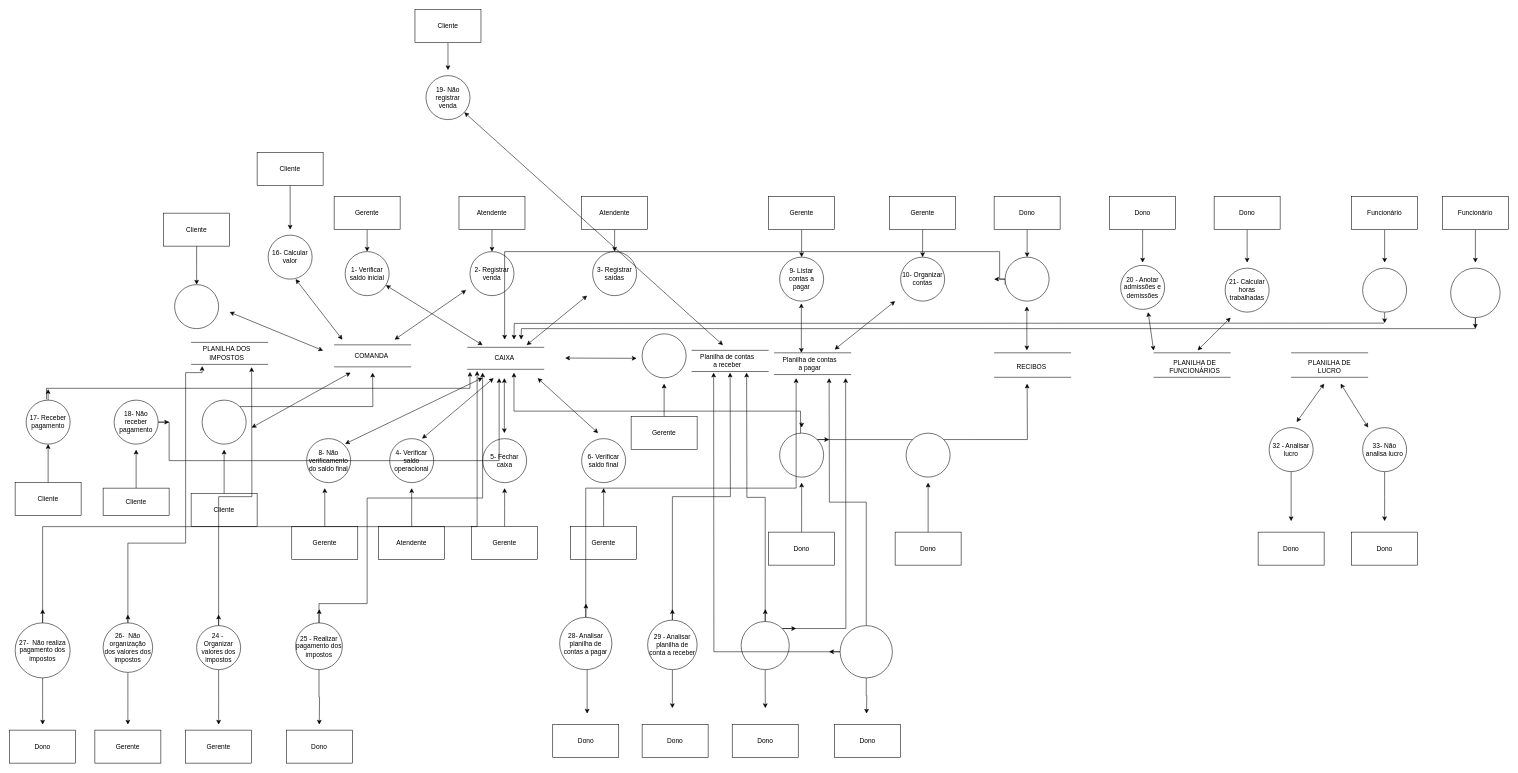
Some shapes in this 1518 by 773 pixel diagram are drawn without their labels. The centre of each missing label's shape, as x and y in pixels:
"11- Pagar contas" belongs at point 1027,279.
"12- Negociar pagamento" belongs at point 801,455.
"13- Não pagamento das contas" belongs at point 928,455.
"14- Receber comanda" belongs at point 196,306.
"15- Entregar comanda" belongs at point 224,422.
"22- Receber salário" belongs at point 1384,290.
"23- Não recebe salário" belongs at point 1475,293.
"30- Calcular contas a pagar e a receber" belongs at point 765,645.
"31- Não realiza o cálculo das contas" belongs at point 866,651.
"7- Não fechamento do caixa" belongs at point 664,355.
